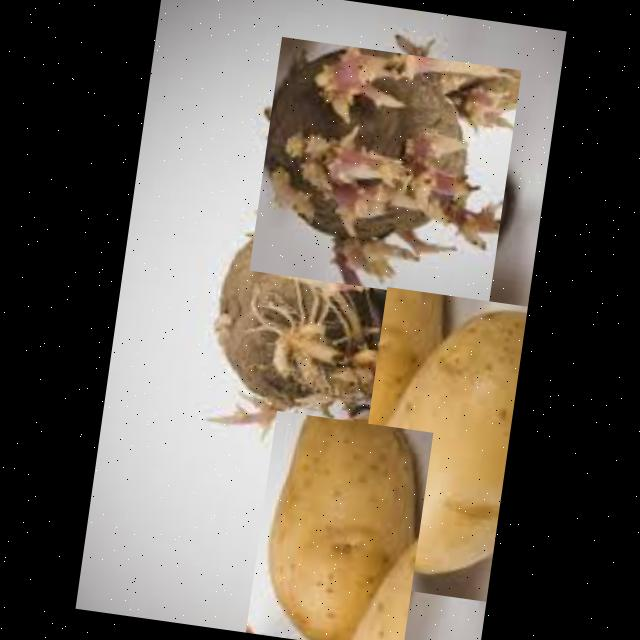Potato: (345, 287, 527, 602), (244, 410, 432, 640)
Sprouted potato: (248, 37, 520, 304), (202, 213, 398, 423)
